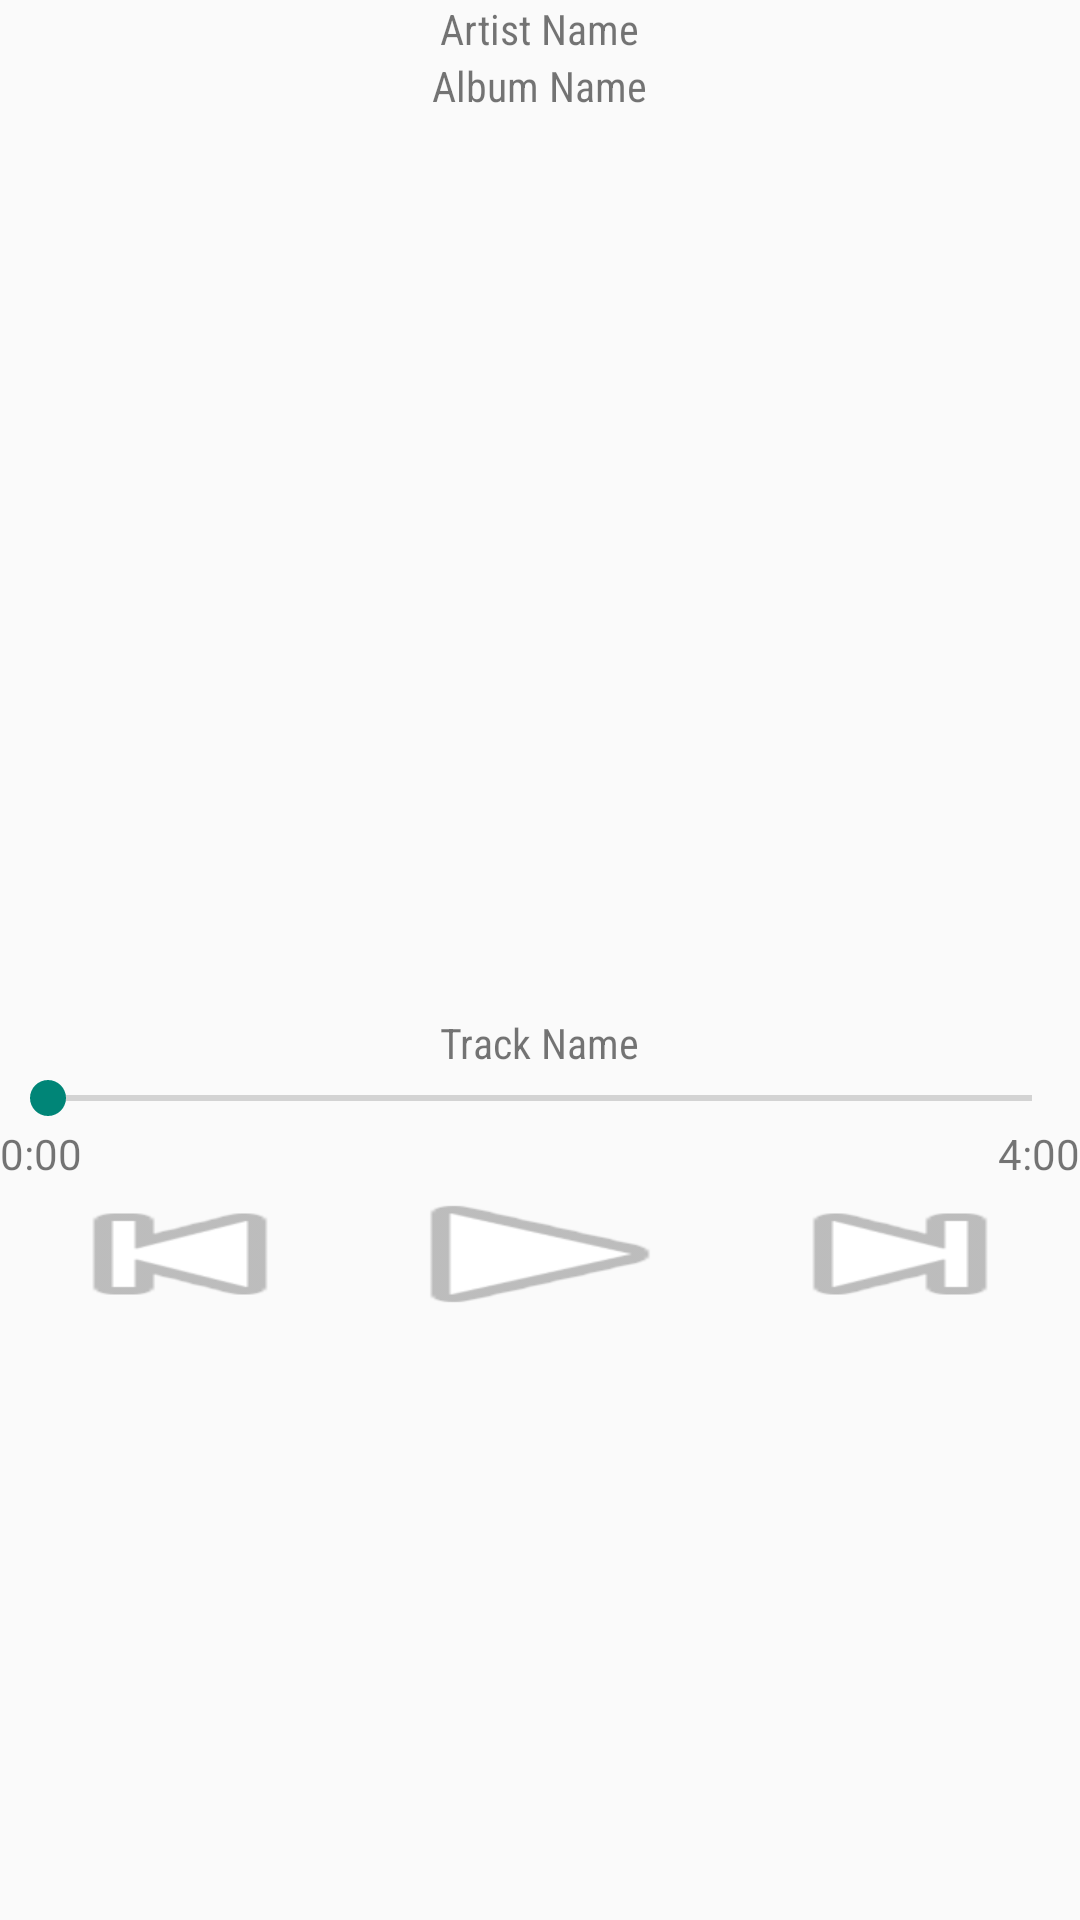

Named icons in this screenshot (1080px×1920px) and their bounding boxes, (left=x1, top=y1, right=x2, bottom=y2):
next: (left=813, top=1213, right=987, bottom=1295)
play: (left=431, top=1206, right=649, bottom=1302)
previous: (left=93, top=1213, right=267, bottom=1295)
